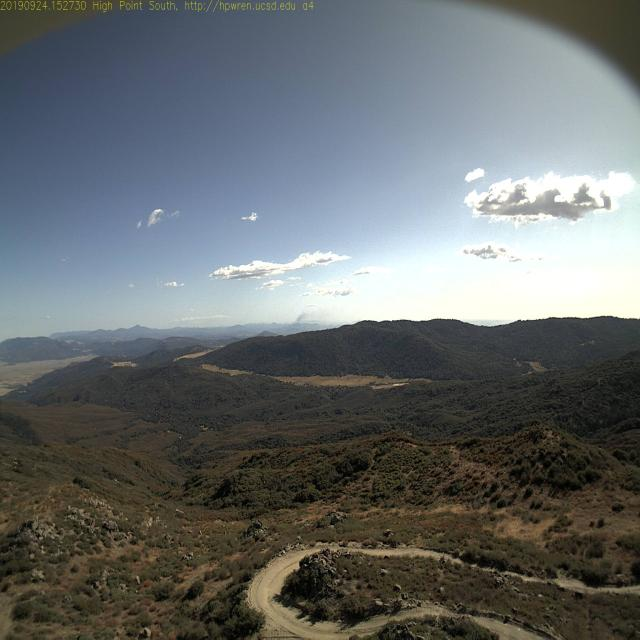smoke: (293, 302, 323, 327)
